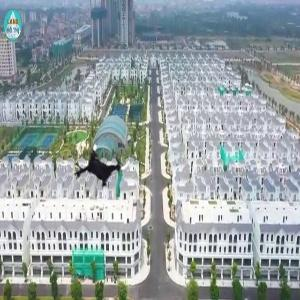drone: (70, 134, 134, 198)
